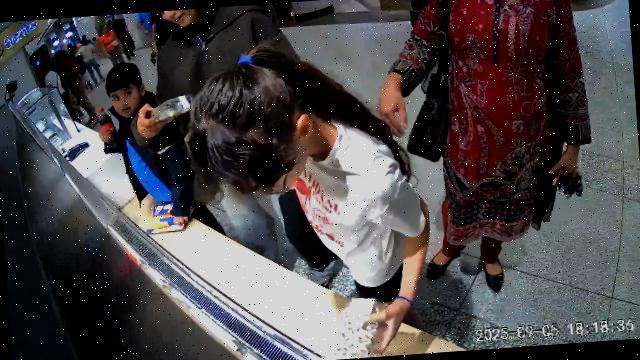sushi-box: (334, 297, 377, 359), (146, 95, 191, 121)
